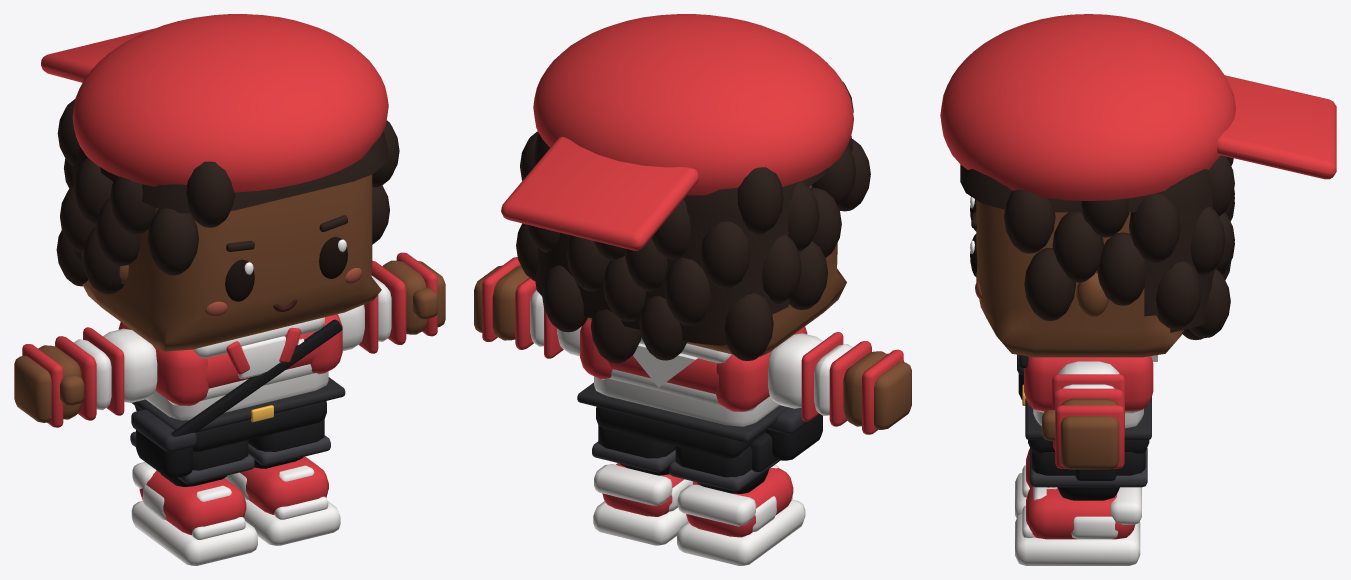
File: ace_chibi_v02.glb
3 views of the same model, side by side, from view 1: azimuth 30°, elevation 25°; view 2: azimuth 150°, elevation 25°; view 3: azimuth 270°, elevation 25° (orthographic).
Parts seen in each view (by area): view 1: Cap_Crown, Head, Hair_Curls, Shoe_R, Shorts, Shoe_L, Arm_R, Jacket, Hand_R, Hair_Cap, Arm_L, Hand_L (+9 smaller); view 2: Cap_Crown, Hair_Curls, Cap_Brim, Hair_Cap, Shorts, Shoe_R, Jacket, Arm_R, Shoe_L, Hand_R, Torso, Hand_L (+6 smaller); view 3: Cap_Crown, Hair_Curls, Head, Shoe_L, Cap_Brim, Hair_Cap, Hand_L, Shorts, Jacket, Arm_L, Belt, Leg_L (+1 smaller).
Part boxes in pixels (bbox=[...]): Cap_Crown: bbox=[72, 14, 388, 192]; Head: bbox=[82, 174, 381, 351]; Hair_Curls: bbox=[56, 99, 399, 294]; Shoe_R: bbox=[131, 462, 257, 565]; Shorts: bbox=[130, 401, 330, 484]; Shoe_L: bbox=[225, 456, 340, 545]; Arm_R: bbox=[55, 327, 157, 420]; Jacket: bbox=[118, 314, 342, 405]; Hand_R: bbox=[14, 344, 84, 427]; Hair_Cap: bbox=[73, 131, 388, 261]; Arm_L: bbox=[338, 260, 406, 353]; Hand_L: bbox=[382, 252, 445, 336]; Cap_Crown: bbox=[533, 14, 853, 195]; Hair_Curls: bbox=[516, 82, 870, 363]; Cap_Brim: bbox=[501, 136, 698, 250]; Hair_Cap: bbox=[534, 133, 853, 345]; Shorts: bbox=[592, 407, 780, 491]; Shoe_R: bbox=[677, 465, 805, 565]; Jacket: bbox=[580, 319, 807, 411]; Arm_R: bbox=[768, 332, 871, 426]; Shoe_L: bbox=[593, 463, 699, 545]; Hand_R: bbox=[843, 349, 911, 434]; Torso: bbox=[594, 376, 779, 426]; Hand_L: bbox=[474, 257, 529, 341]; Cap_Crown: bbox=[940, 14, 1235, 200]; Hair_Curls: bbox=[1004, 155, 1234, 340]; Head: bbox=[976, 200, 1183, 357]; Shoe_L: bbox=[1015, 486, 1141, 565]; Cap_Brim: bbox=[1217, 75, 1336, 179]; Hair_Cap: bbox=[960, 164, 1216, 332]; Hand_L: bbox=[1042, 398, 1124, 469]; Shorts: bbox=[1028, 440, 1149, 487]; Jacket: bbox=[1024, 355, 1157, 411]; Arm_L: bbox=[1052, 361, 1124, 450]; Belt: bbox=[1022, 384, 1151, 439]; Leg_L: bbox=[1057, 487, 1119, 500].
Bounding box in the file's own units: 0.5873 × 0.6706 × 0.4899.
